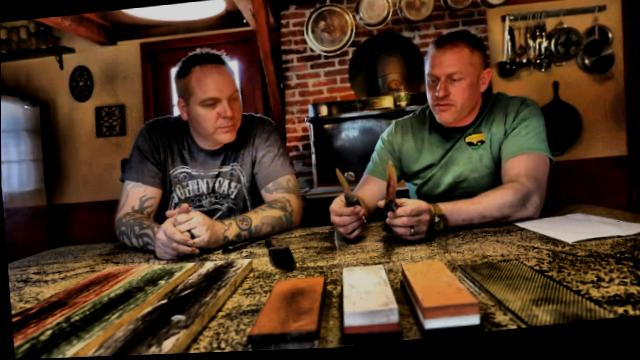knife: (380, 153, 430, 235), (323, 161, 368, 222)
